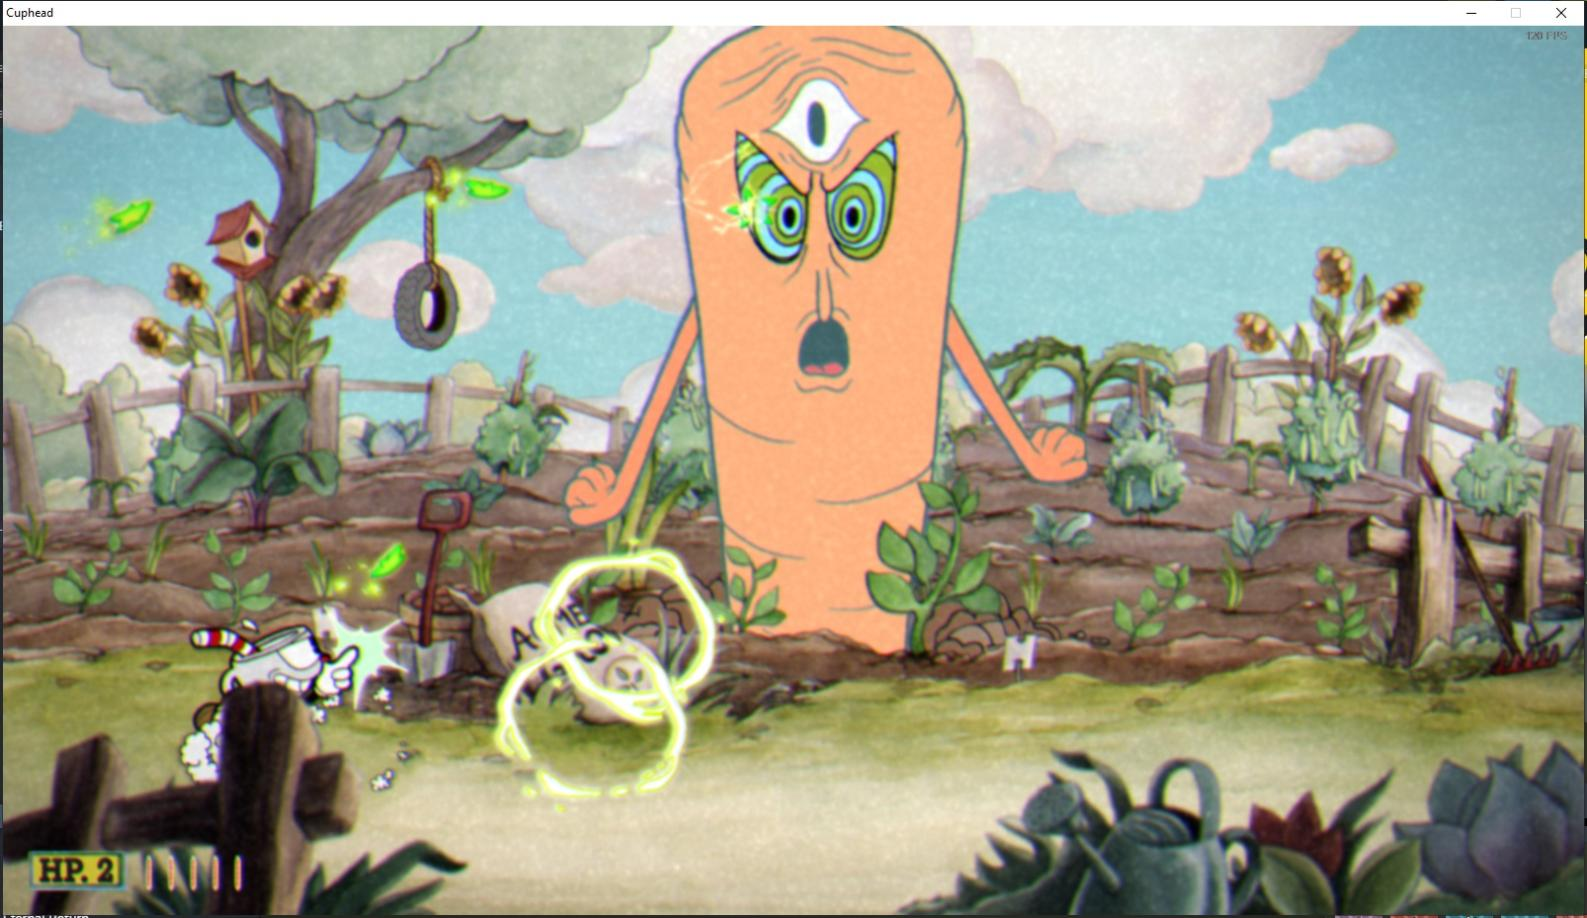carrot_boss: (666, 30, 981, 660)
hp2: (89, 853, 123, 890)
player: (169, 613, 370, 789)
ring: (526, 532, 728, 728), (487, 631, 700, 809)
